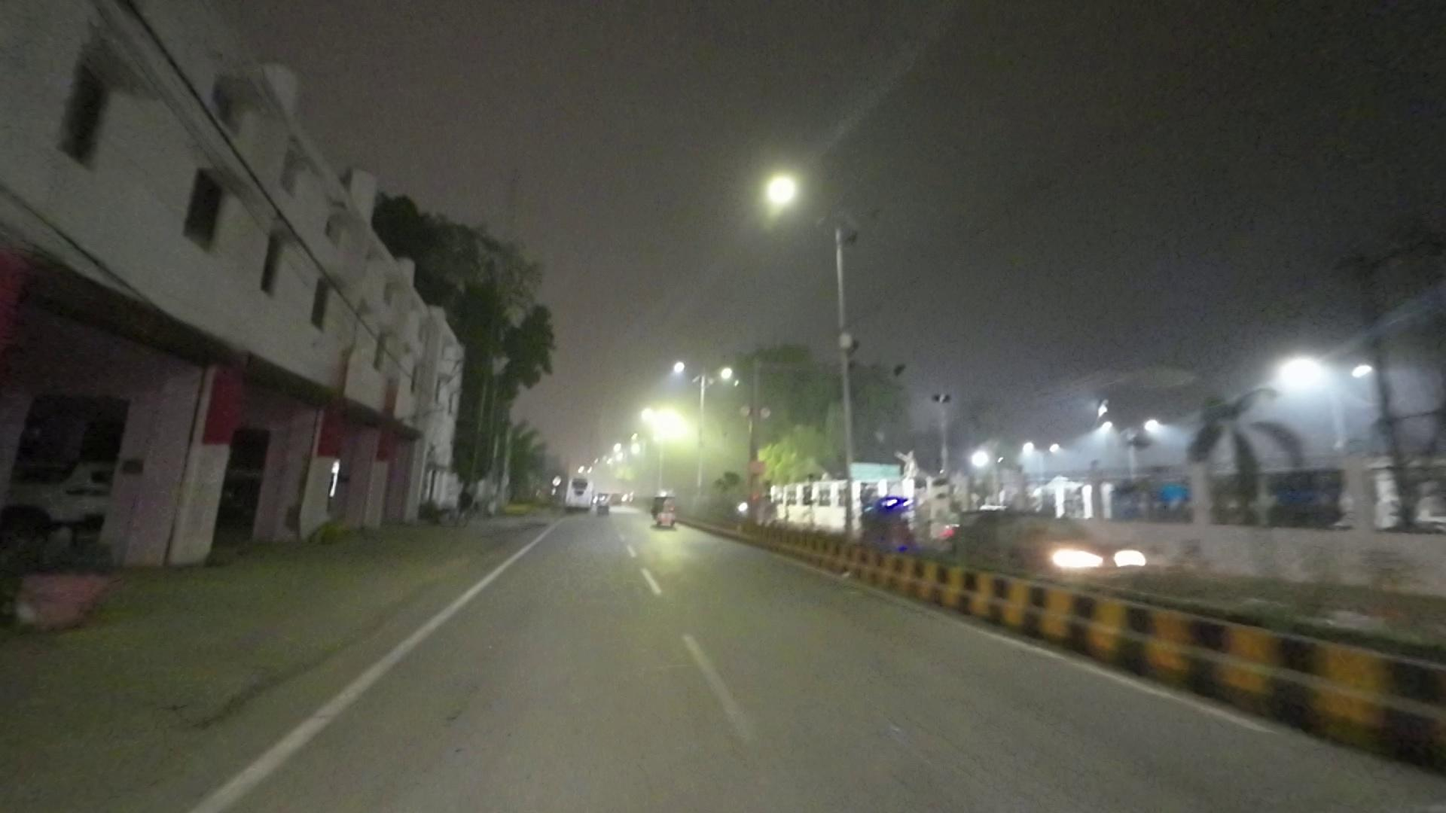streetlight: (850, 206, 888, 223)
